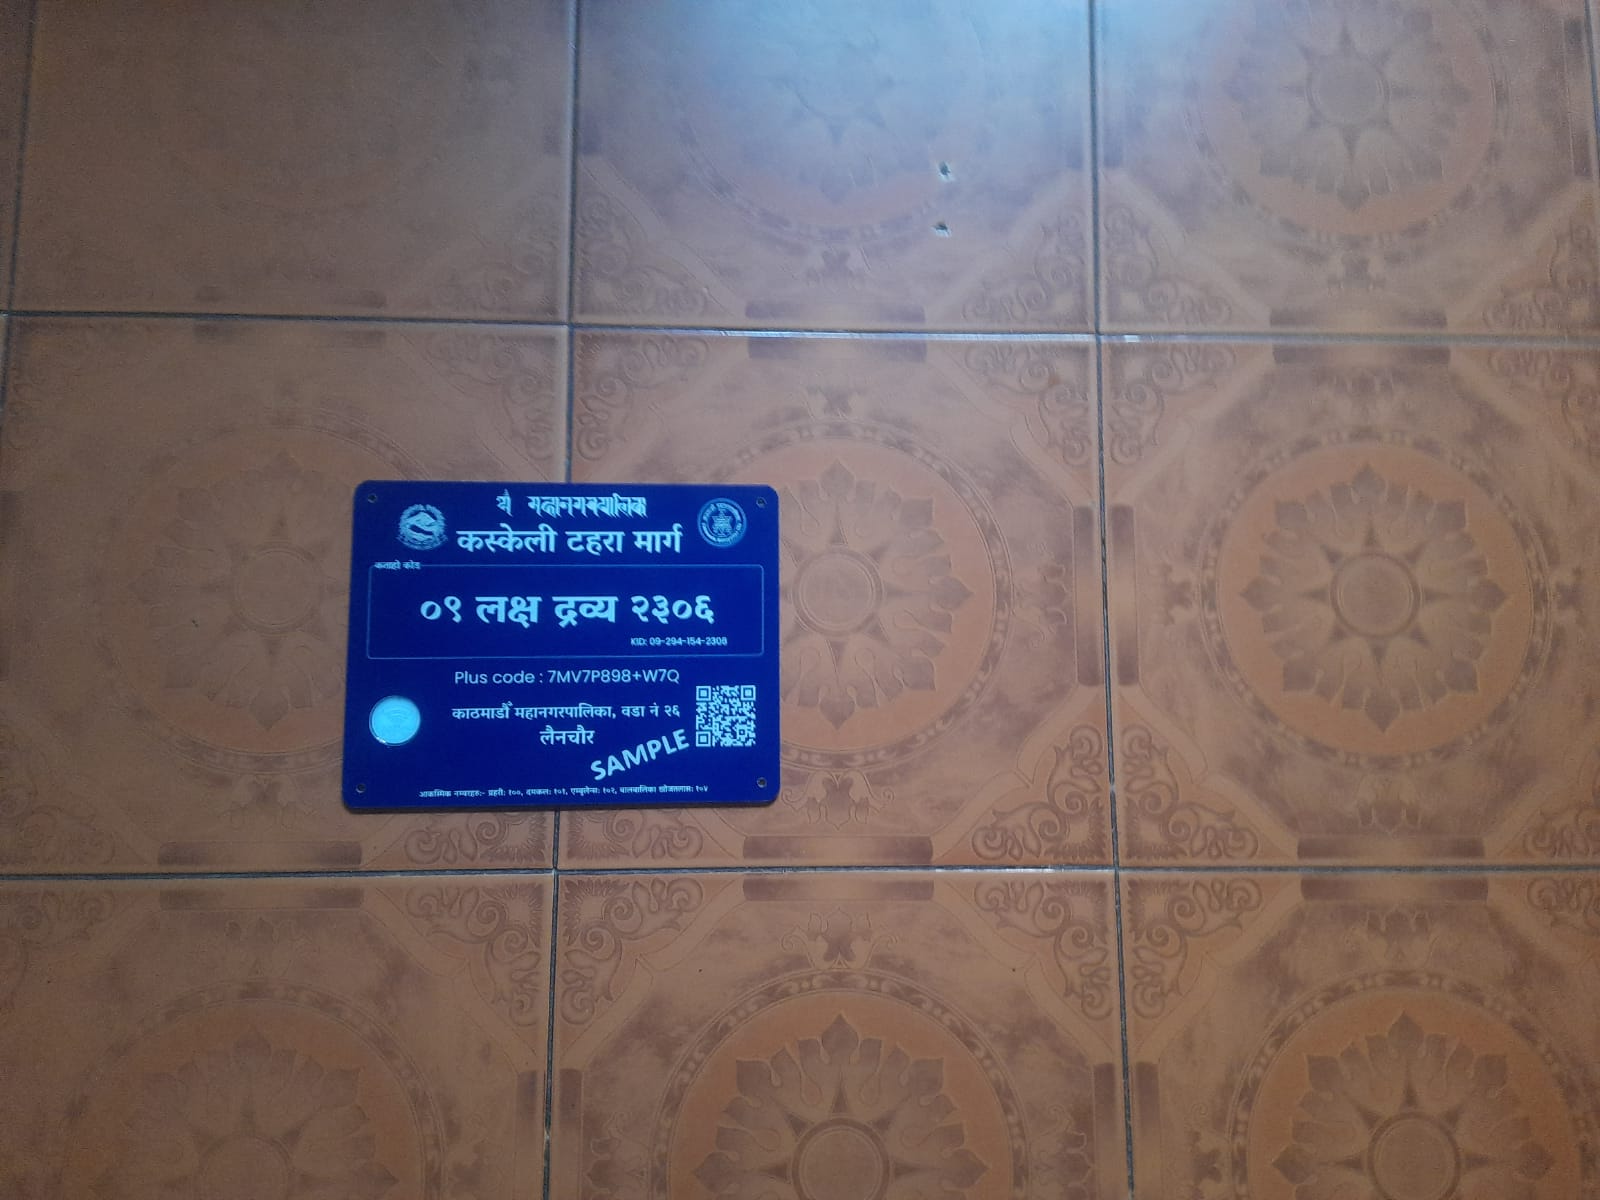Plate: (340, 477, 784, 814)
